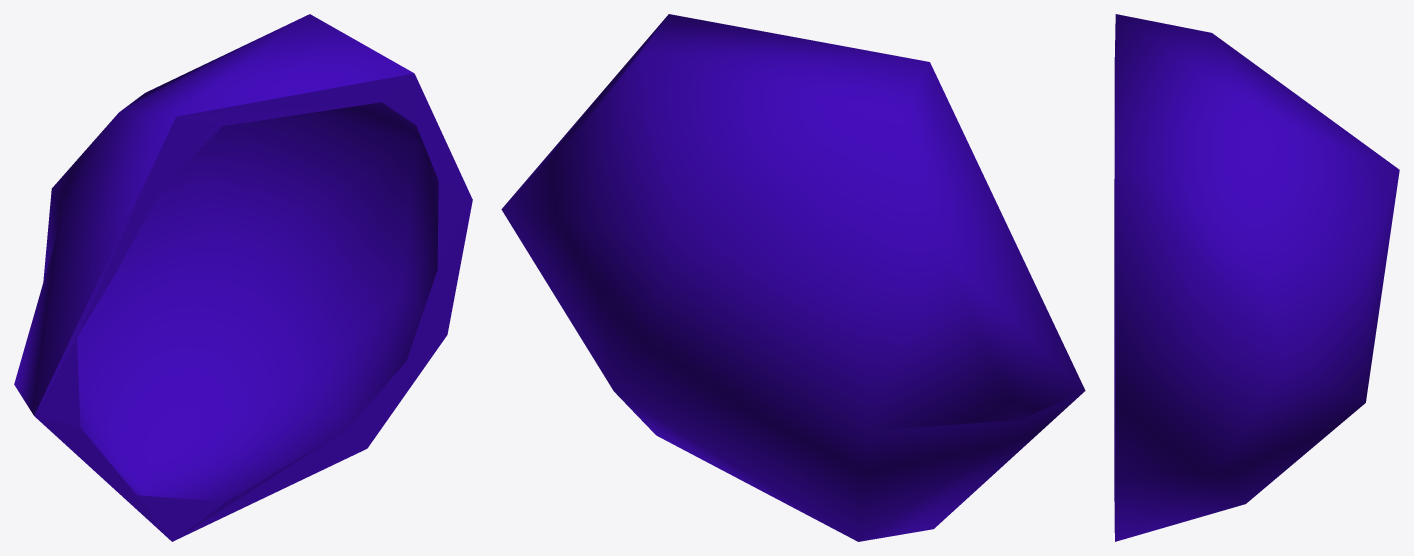
File: lyso2.glb
3 renders of one model, left to right at view 1: azimuth 30°, elevation 25°; view 2: azimuth 150°, elevation 25°; view 3: azimuth 270°, elevation 25°, orthographic. The views are drawn at different scales.
Visible parts, largest first — view 1: Lysosome.003; view 2: Lysosome.003; view 3: Lysosome.003.
Boxes of the visible parts, x1=… form: Lysosome.003: x1=14, y1=14, x2=472, y2=541; Lysosome.003: x1=501, y1=14, x2=1085, y2=541; Lysosome.003: x1=1114, y1=14, x2=1399, y2=541.
Bounding box in the file's own units: 1.72 × 1.55 × 0.8291.
